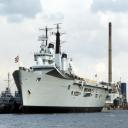Portanaves: (13, 20, 114, 114)
